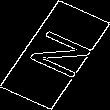N_SE: (16, 25, 94, 85)
